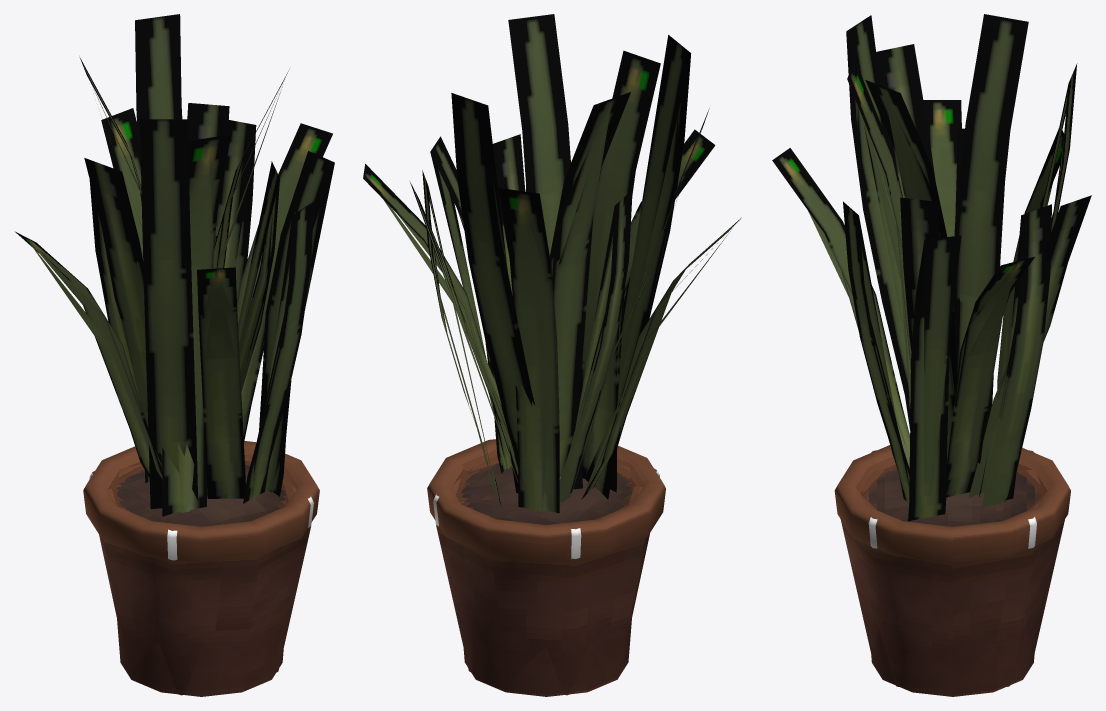
File: objects_un_pot_sansevieria01.gltf
The picture shows the model from 3 angles, left to right: view 1: azimuth 30°, elevation 25°; view 2: azimuth 150°, elevation 25°; view 3: azimuth 270°, elevation 25°; orthographic projection.
Parts seen in each view (by area): view 1: um_objects_un_pot_sansevieria01_model_lod0Shape:objects_un_s, um_objects_un_pot_sansevieria01_model_lod2Shape:objects_un_s, um_objects_un_pot_sansevieria01_model_lod2Shape:objects_un_p, um_objects_un_pot_sansevieria01_model_lod0Shape:objects_un_p, um_objects_un_pot_sansevieria01_model_lod1Shape:objects_un_s, um_objects_un_pot_sansevieria01_model_lod1Shape:objects_un_p; view 2: um_objects_un_pot_sansevieria01_model_lod0Shape:objects_un_s, um_objects_un_pot_sansevieria01_model_lod2Shape:objects_un_s, um_objects_un_pot_sansevieria01_model_lod0Shape:objects_un_p, um_objects_un_pot_sansevieria01_model_lod2Shape:objects_un_p, um_objects_un_pot_sansevieria01_model_lod1Shape:objects_un_s, um_objects_un_pot_sansevieria01_model_lod1Shape:objects_un_p; view 3: um_objects_un_pot_sansevieria01_model_lod0Shape:objects_un_s, um_objects_un_pot_sansevieria01_model_lod2Shape:objects_un_p, um_objects_un_pot_sansevieria01_model_lod0Shape:objects_un_p, um_objects_un_pot_sansevieria01_model_lod2Shape:objects_un_s, um_objects_un_pot_sansevieria01_model_lod1Shape:objects_un_s, um_objects_un_pot_sansevieria01_model_lod1Shape:objects_un_p.
Boxes of the visible parts, x1=… form: um_objects_un_pot_sansevieria01_model_lod0Shape:objects_un_s: x1=15, y1=16, x2=334, y2=516; um_objects_un_pot_sansevieria01_model_lod2Shape:objects_un_s: x1=26, y1=14, x2=334, y2=512; um_objects_un_pot_sansevieria01_model_lod2Shape:objects_un_p: x1=99, y1=526, x2=310, y2=695; um_objects_un_pot_sansevieria01_model_lod0Shape:objects_un_p: x1=83, y1=441, x2=319, y2=696; um_objects_un_pot_sansevieria01_model_lod1Shape:objects_un_s: x1=26, y1=82, x2=291, y2=499; um_objects_un_pot_sansevieria01_model_lod1Shape:objects_un_p: x1=92, y1=454, x2=310, y2=508; um_objects_un_pot_sansevieria01_model_lod0Shape:objects_un_s: x1=363, y1=14, x2=741, y2=513; um_objects_un_pot_sansevieria01_model_lod2Shape:objects_un_s: x1=384, y1=35, x2=730, y2=511; um_objects_un_pot_sansevieria01_model_lod0Shape:objects_un_p: x1=427, y1=439, x2=665, y2=696; um_objects_un_pot_sansevieria01_model_lod2Shape:objects_un_p: x1=436, y1=525, x2=649, y2=695; um_objects_un_pot_sansevieria01_model_lod1Shape:objects_un_s: x1=397, y1=100, x2=723, y2=503; um_objects_un_pot_sansevieria01_model_lod1Shape:objects_un_p: x1=436, y1=453, x2=656, y2=506; um_objects_un_pot_sansevieria01_model_lod0Shape:objects_un_s: x1=772, y1=14, x2=1077, y2=521; um_objects_un_pot_sansevieria01_model_lod2Shape:objects_un_p: x1=840, y1=519, x2=1064, y2=687; um_objects_un_pot_sansevieria01_model_lod0Shape:objects_un_p: x1=834, y1=445, x2=1070, y2=696; um_objects_un_pot_sansevieria01_model_lod2Shape:objects_un_s: x1=808, y1=15, x2=1091, y2=495; um_objects_un_pot_sansevieria01_model_lod1Shape:objects_un_s: x1=817, y1=88, x2=1063, y2=505; um_objects_un_pot_sansevieria01_model_lod1Shape:objects_un_p: x1=862, y1=450, x2=1043, y2=518.
Bounding box in the file's own units: 0.8726 × 1.48 × 0.7131.
3 materials, 2 textured.
